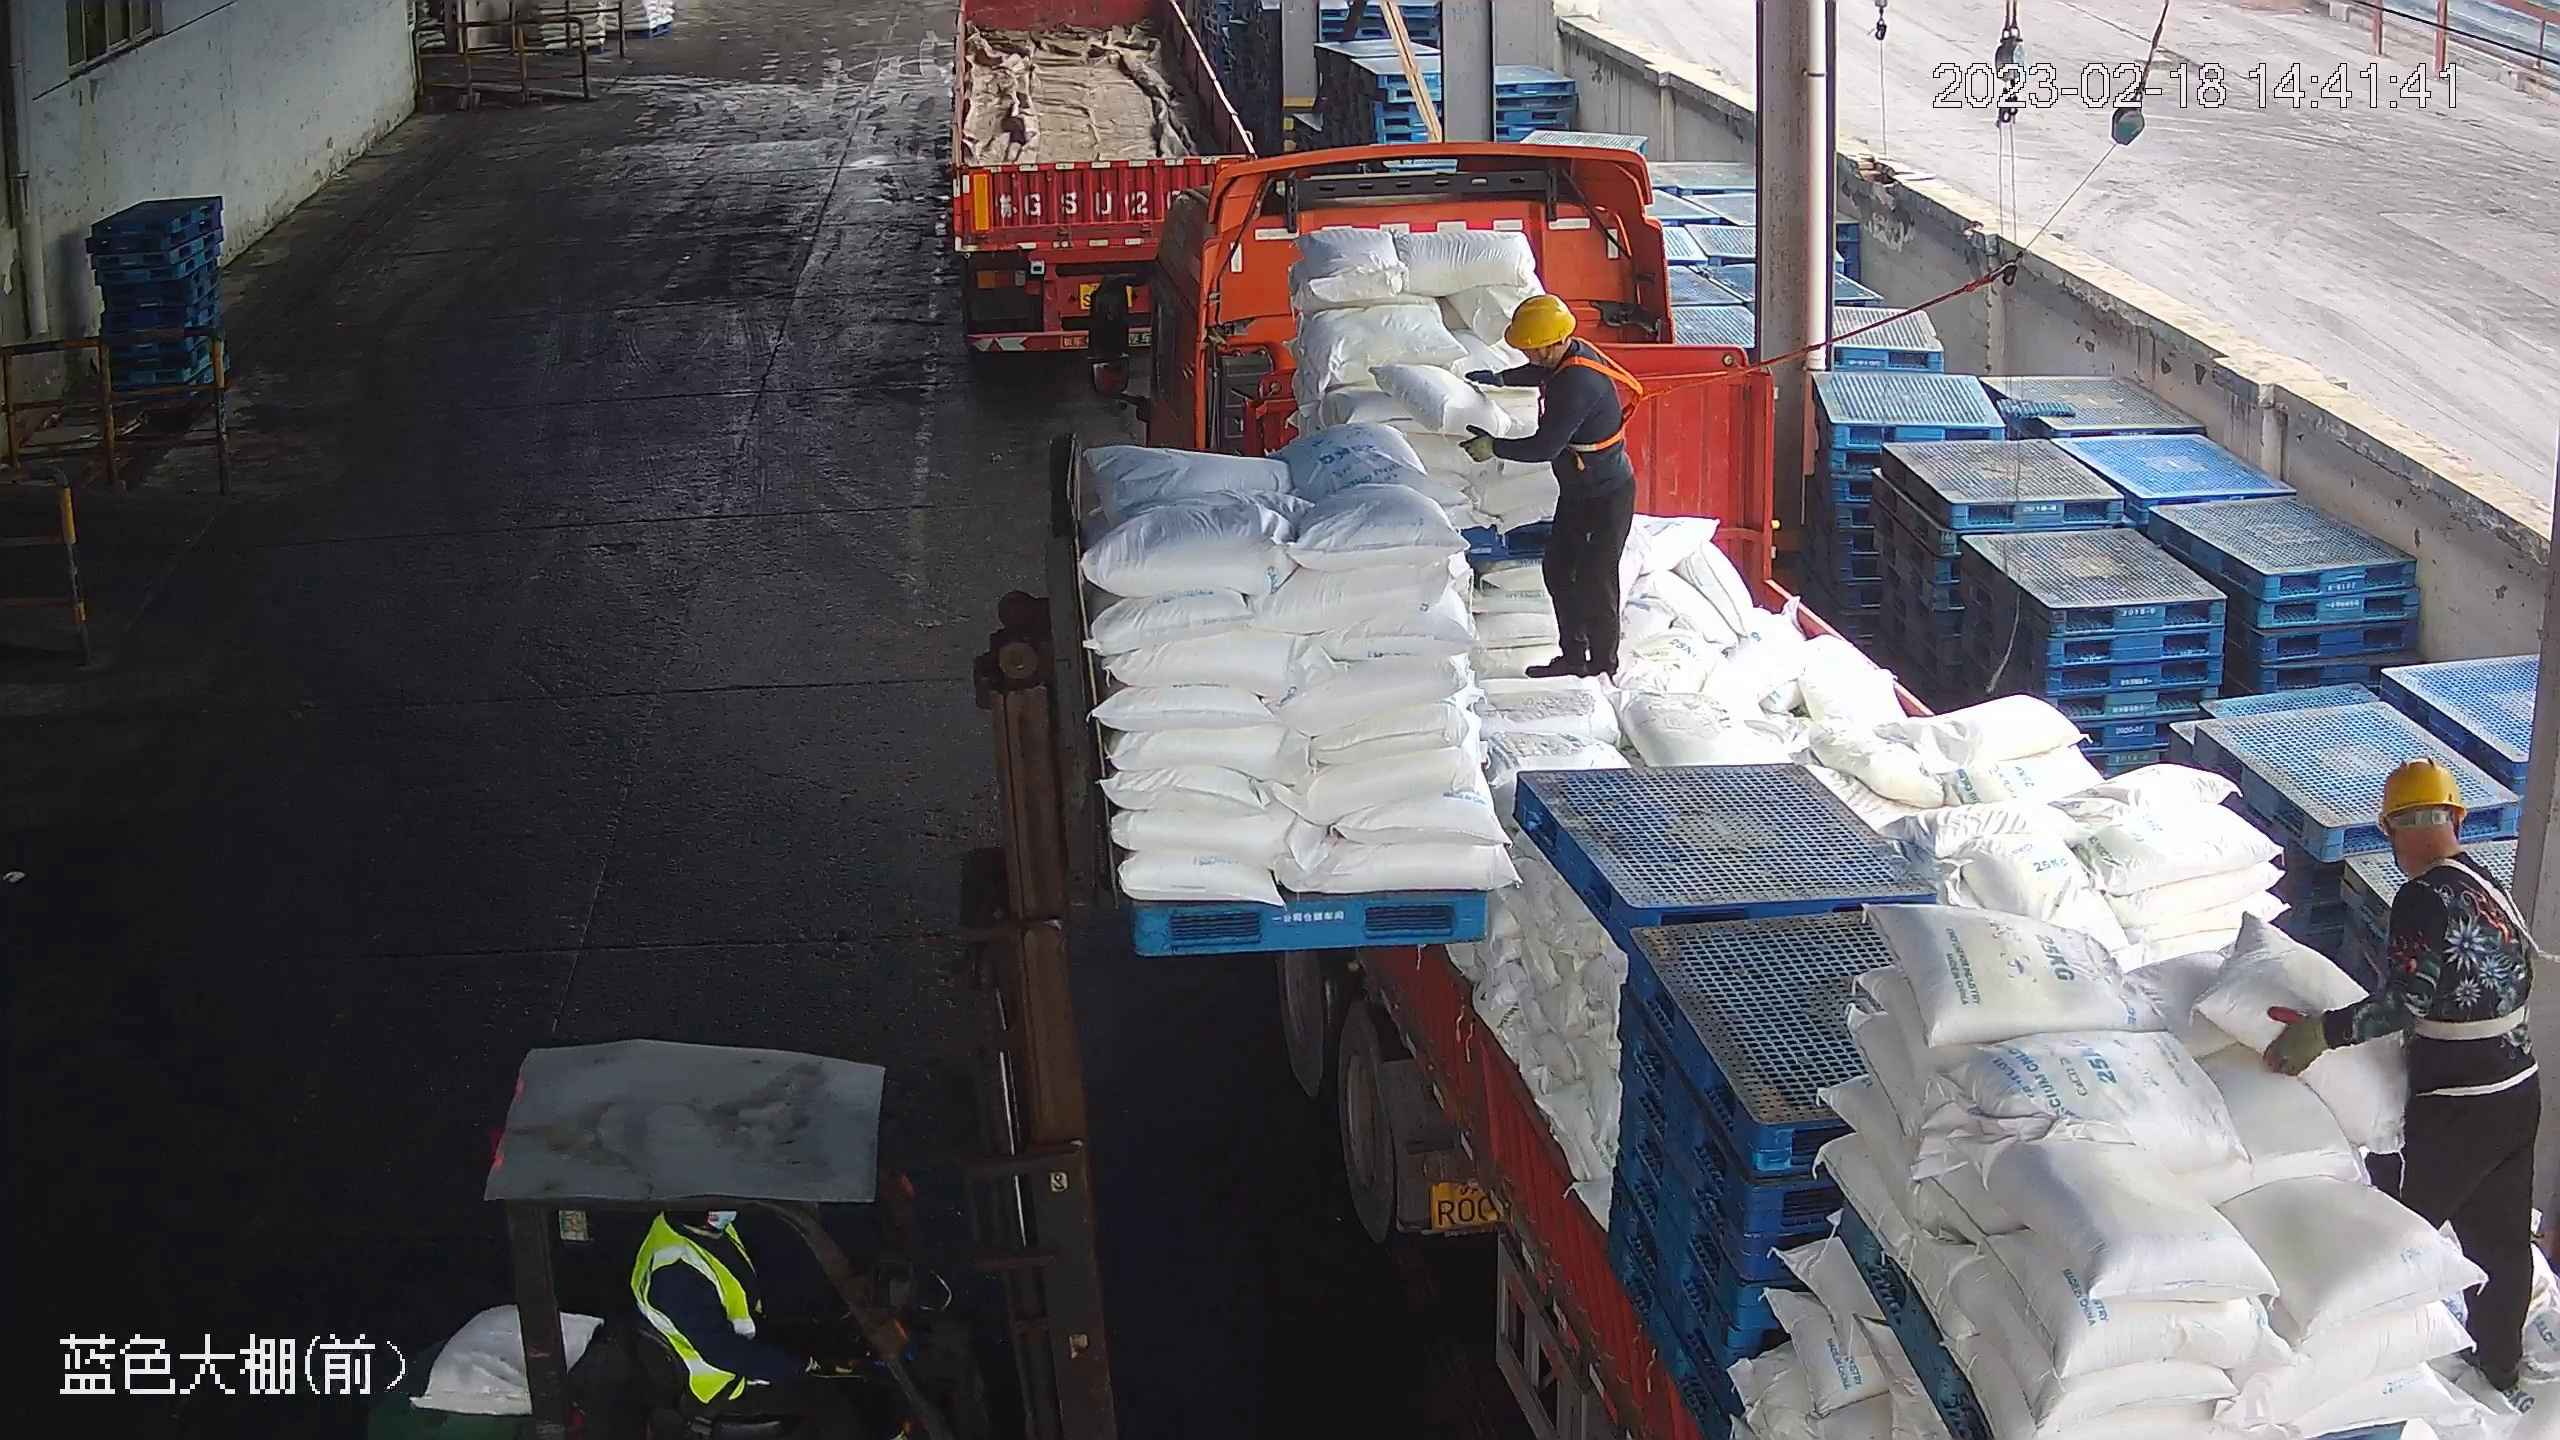belt: (2415, 861, 2538, 1044), (1558, 342, 1650, 453)
head: (2367, 755, 2520, 946), (1496, 290, 1621, 414)
helmet: (2371, 755, 2466, 827), (1504, 290, 1581, 353)
people: (2259, 751, 2547, 1407), (1467, 291, 1648, 686), (636, 1199, 866, 1438)
truck: (1086, 144, 2552, 1440), (947, 2, 1261, 355)
